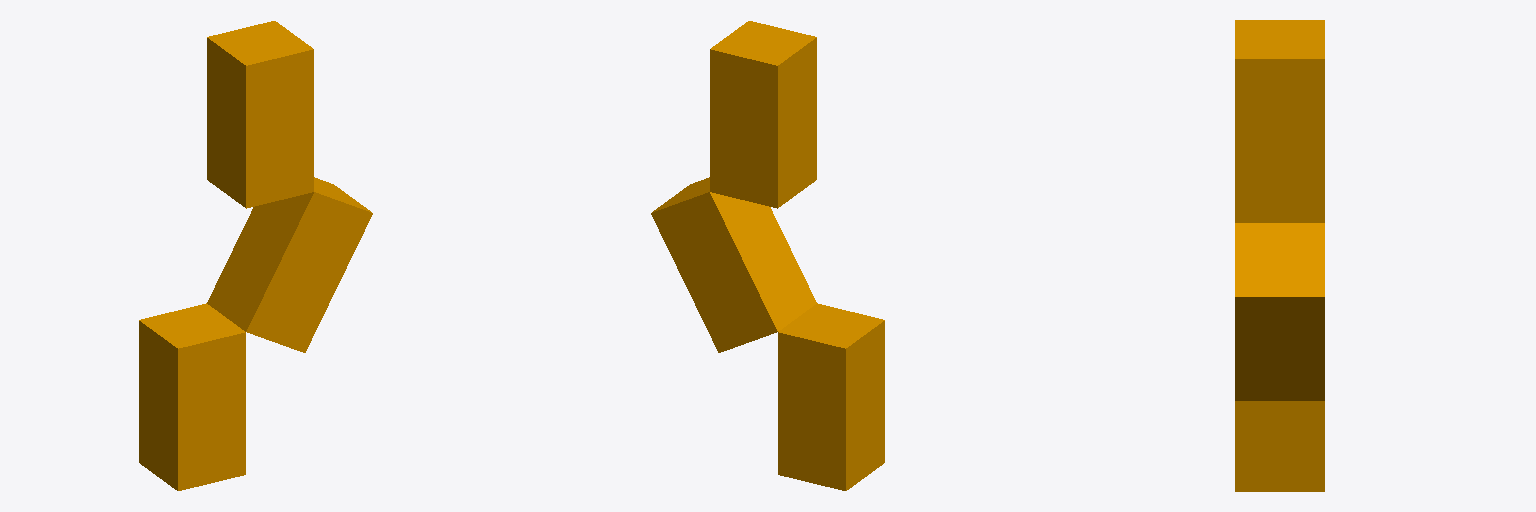
The robot description file, URDF, robot "test_blocks":
<?xml version="1.0" ?>
<robot name="test_blocks">
  <mujoco>
    <compiler meshdir="meshes" fusestatic="false"/>
  </mujoco>
<link name="base_link">
  <inertial>
    <origin xyz="0.04055021169820366 0.0 0.13913460352255524" rpy="0 0 0"/>
    <mass value="5.887500000000001"/>
    <inertia ixx="0.04019822250760299" iyy="0.04580529009504215" izz="0.008060192587439136" ixy="0.0" iyz="0.0" ixz="-0.008923372018038965"/>
  </inertial>
  <visual>
    <origin xyz="0 0 0" rpy="0 0 0"/>
    <geometry>
      <mesh filename="meshes/base_link.stl" scale="0.001 0.001 0.001"/>
    </geometry>
  </visual>
  <collision>
    <origin xyz="0 0 0" rpy="0 0 0"/>
    <geometry>
      <mesh filename="meshes/base_link.stl" scale="0.001 0.001 0.001"/>
    </geometry>
  </collision>
</link>

</robot>

--- What the picture shows (computed from the rendered views, not written in the file) ---
The picture shows the robot from 3 angles, left to right: view 1: azimuth 30°, elevation 25°; view 2: azimuth 150°, elevation 25°; view 3: azimuth 270°, elevation 25°; orthographic projection.
Model test_blocks with 1 links and 0 joints (none), rooted at base_link, posed every joint at zero.
Links seen in each view (by area): view 1: base_link; view 2: base_link; view 3: base_link.
Boxes of the visible links, x1,y1,x2,y2 form: base_link: [139, 21, 372, 490]; base_link: [651, 21, 884, 490]; base_link: [1235, 20, 1324, 491].
Bounding box of the posed robot: 0.1433 × 0.05 × 0.2866 m (x, y, z).
Meshes: 1 distinct files referenced, 1 mesh visuals loaded (1 binary STL).